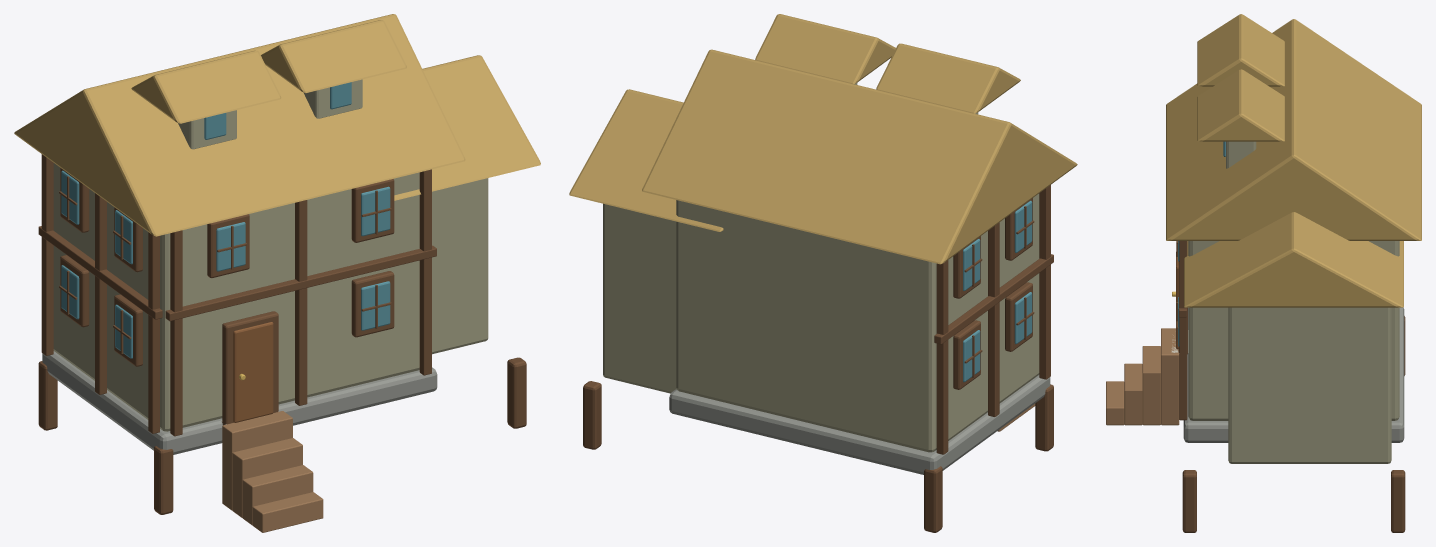
Rendered from wetland-townhouse-1.glb.
The picture shows the model from 3 angles, left to right: view 1: azimuth 30°, elevation 25°; view 2: azimuth 150°, elevation 25°; view 3: azimuth 270°, elevation 25°; orthographic projection. The views are drawn at different scales.
Parts seen in each view (by area): view 1: Golden thatch, Weathered planks, Dark beams, Aged oak, Foundation stone, Blue glass, Door oak; view 2: Golden thatch, Weathered planks, Dark beams, Foundation stone, Blue glass; view 3: Golden thatch, Weathered planks, Aged oak, Dark beams, Foundation stone.
Part boxes in pixels (bbox=[...]): Golden thatch: bbox=[14, 14, 540, 236]; Weathered planks: bbox=[53, 79, 488, 431]; Dark beams: bbox=[38, 154, 526, 514]; Aged oak: bbox=[222, 411, 323, 532]; Foundation stone: bbox=[42, 351, 437, 454]; Blue glass: bbox=[61, 82, 390, 358]; Door oak: bbox=[233, 322, 273, 422]; Golden thatch: bbox=[569, 14, 1077, 264]; Weathered planks: bbox=[603, 83, 1039, 452]; Dark beams: bbox=[583, 185, 1053, 532]; Foundation stone: bbox=[669, 375, 1050, 474]; Blue glass: bbox=[963, 200, 1032, 382]; Golden thatch: bbox=[1166, 14, 1421, 307]; Weathered planks: bbox=[1188, 141, 1399, 463]; Aged oak: bbox=[1106, 328, 1179, 425]; Dark beams: bbox=[1176, 241, 1405, 532]; Foundation stone: bbox=[1183, 307, 1404, 442].
Bounding box in the file's own units: 5.22 × 5.14 × 3.97.
